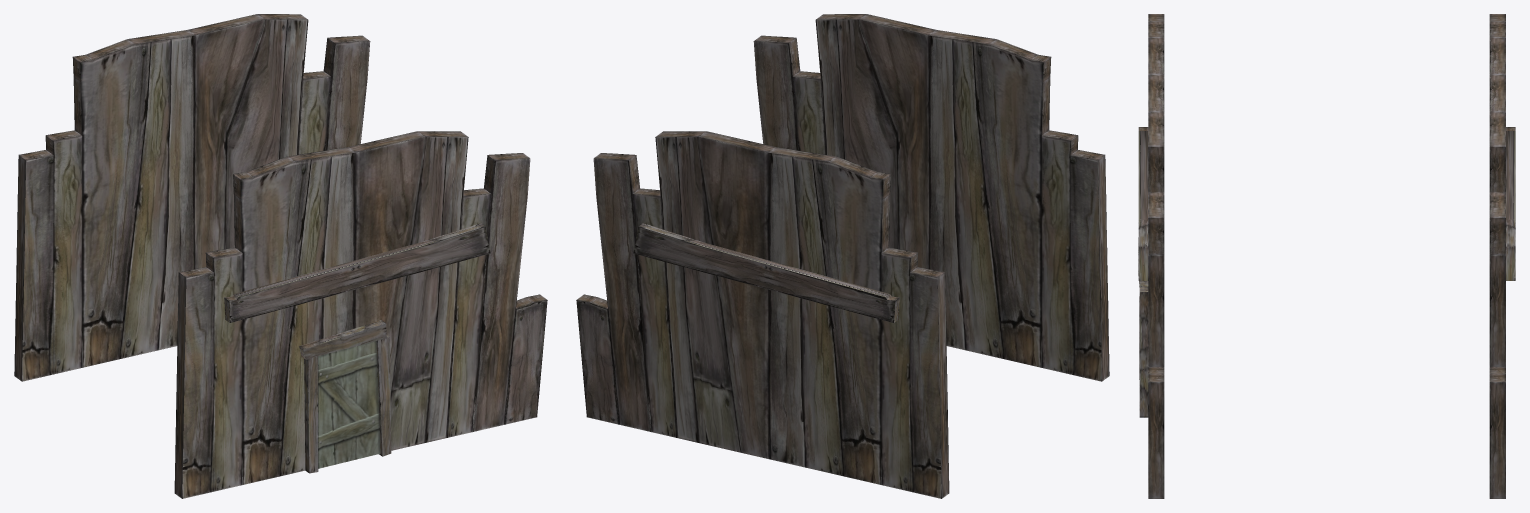
The model's file is shanty_tent_house_facade.fbx.
3 renders of one model, left to right at view 1: azimuth 30°, elevation 25°; view 2: azimuth 150°, elevation 25°; view 3: azimuth 270°, elevation 25°, orthographic. The views are drawn at different scales.
Parts seen in each view (by area): view 1: polySurface1, polySurface13, door3, polySurface2, nurbsToPoly1, nurbsToPoly8, polySurface3, nurbsToPoly2, nurbsToPoly3; view 2: polySurface11, polySurface8, polySurface12, nurbsToPoly8, nurbsToPoly1, nurbsToPoly9; view 3: nurbsToPoly8, nurbsToPoly1, nurbsToPoly2, nurbsToPoly9, nurbsToPoly3.
Boxes of the visible parts, <box> form: polySurface1: <box>182,137,547,498</box>; polySurface13: <box>22,19,369,381</box>; door3: <box>318,341,380,468</box>; polySurface2: <box>228,226,490,322</box>; nurbsToPoly1: <box>174,131,546,498</box>; nurbsToPoly8: <box>14,14,370,381</box>; polySurface3: <box>303,323,391,473</box>; nurbsToPoly2: <box>224,223,484,322</box>; nurbsToPoly3: <box>299,320,389,472</box>; polySurface11: <box>576,137,941,498</box>; polySurface8: <box>754,19,1101,381</box>; polySurface12: <box>633,226,895,322</box>; nurbsToPoly8: <box>577,131,949,498</box>; nurbsToPoly1: <box>753,14,1109,381</box>; nurbsToPoly9: <box>639,223,899,322</box>; nurbsToPoly8: <box>1489,14,1505,498</box>; nurbsToPoly1: <box>1148,14,1164,498</box>; nurbsToPoly2: <box>1138,127,1148,280</box>; nurbsToPoly9: <box>1506,127,1515,280</box>; nurbsToPoly3: <box>1138,237,1148,417</box>.
Size of the model in its own units: 2396 by 1970 by 2010.
1 material, 1 textured.
